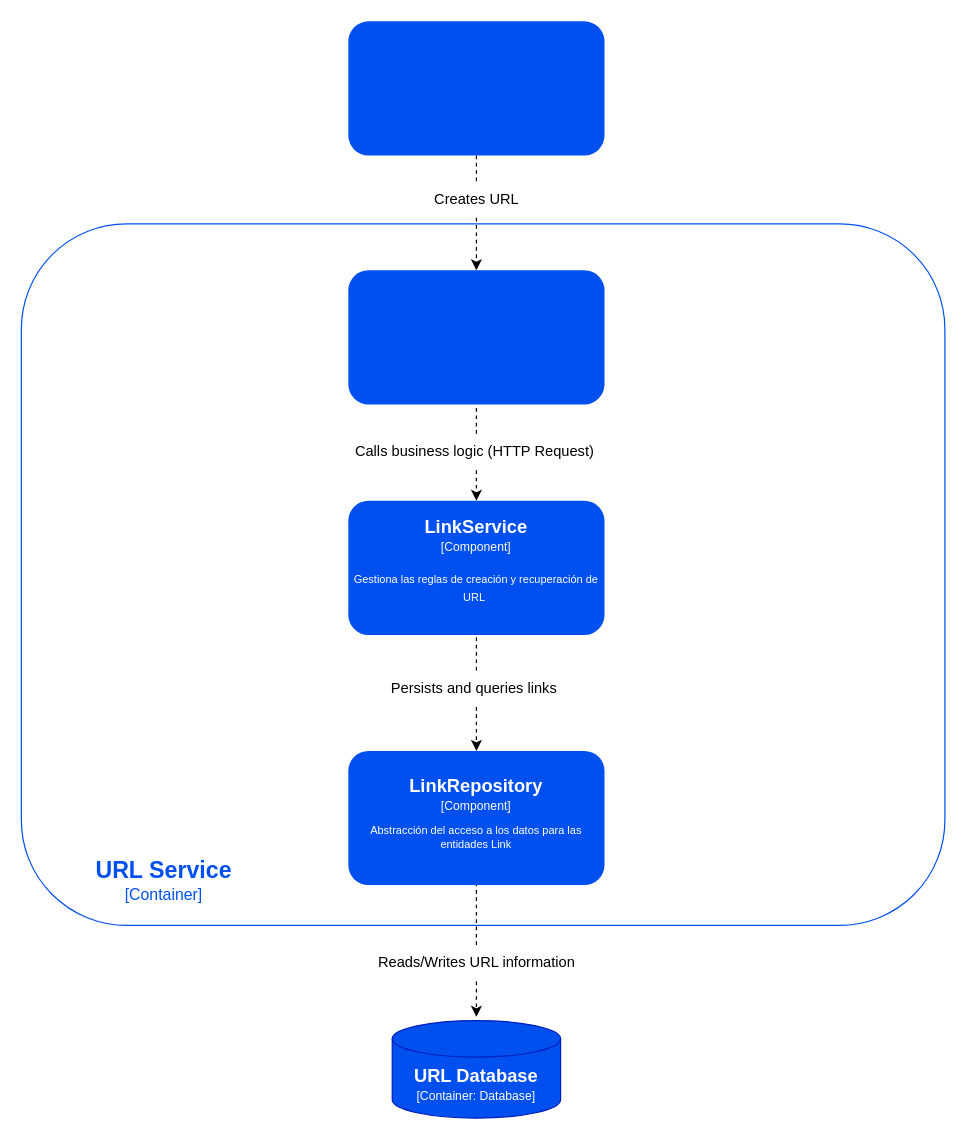
Image size: 966x1139. Some labels were removed from this diagram. The shapes that lost their labels are listed below. From the top down, each one's centre as x and y in pixels, then its label:
[476,88]: User [Person]
[476,337]: UrlsController [Component] Expone puntos finales REST para la gestión de URL
